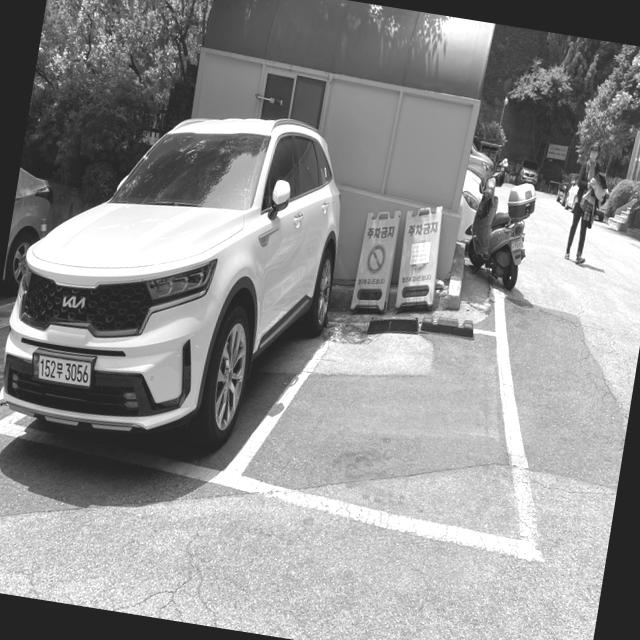car: (1, 88, 352, 460)
free: (211, 314, 547, 570)
